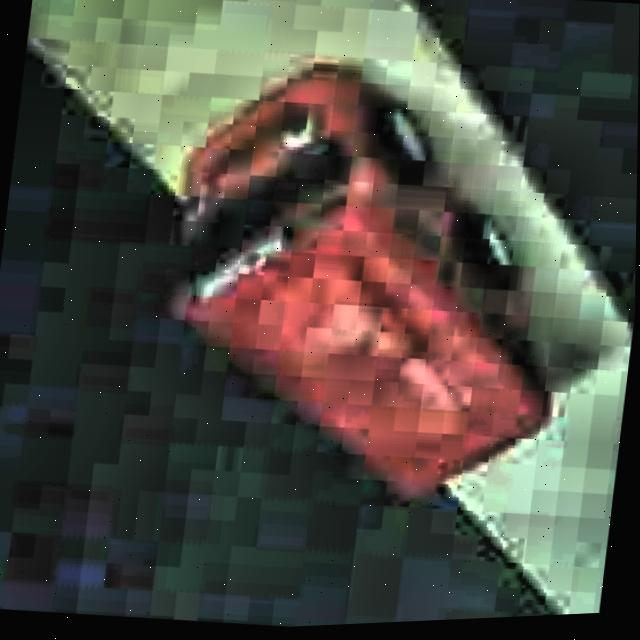bus: (148, 36, 591, 523)
